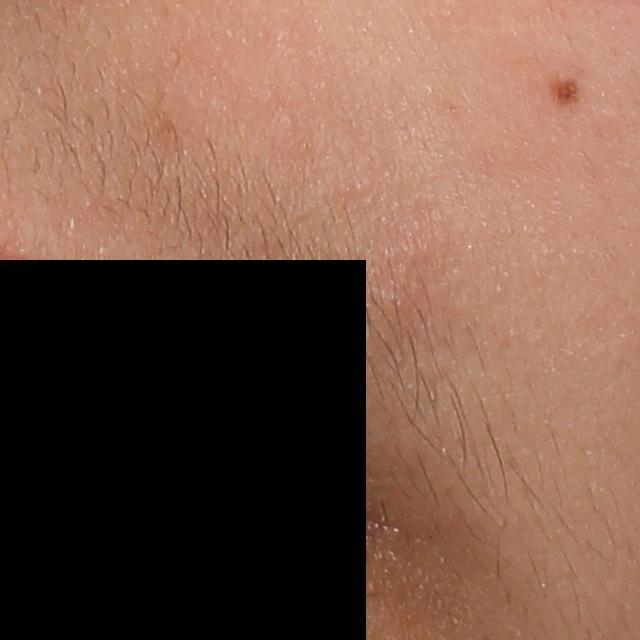nevus: (545, 77, 580, 106)
